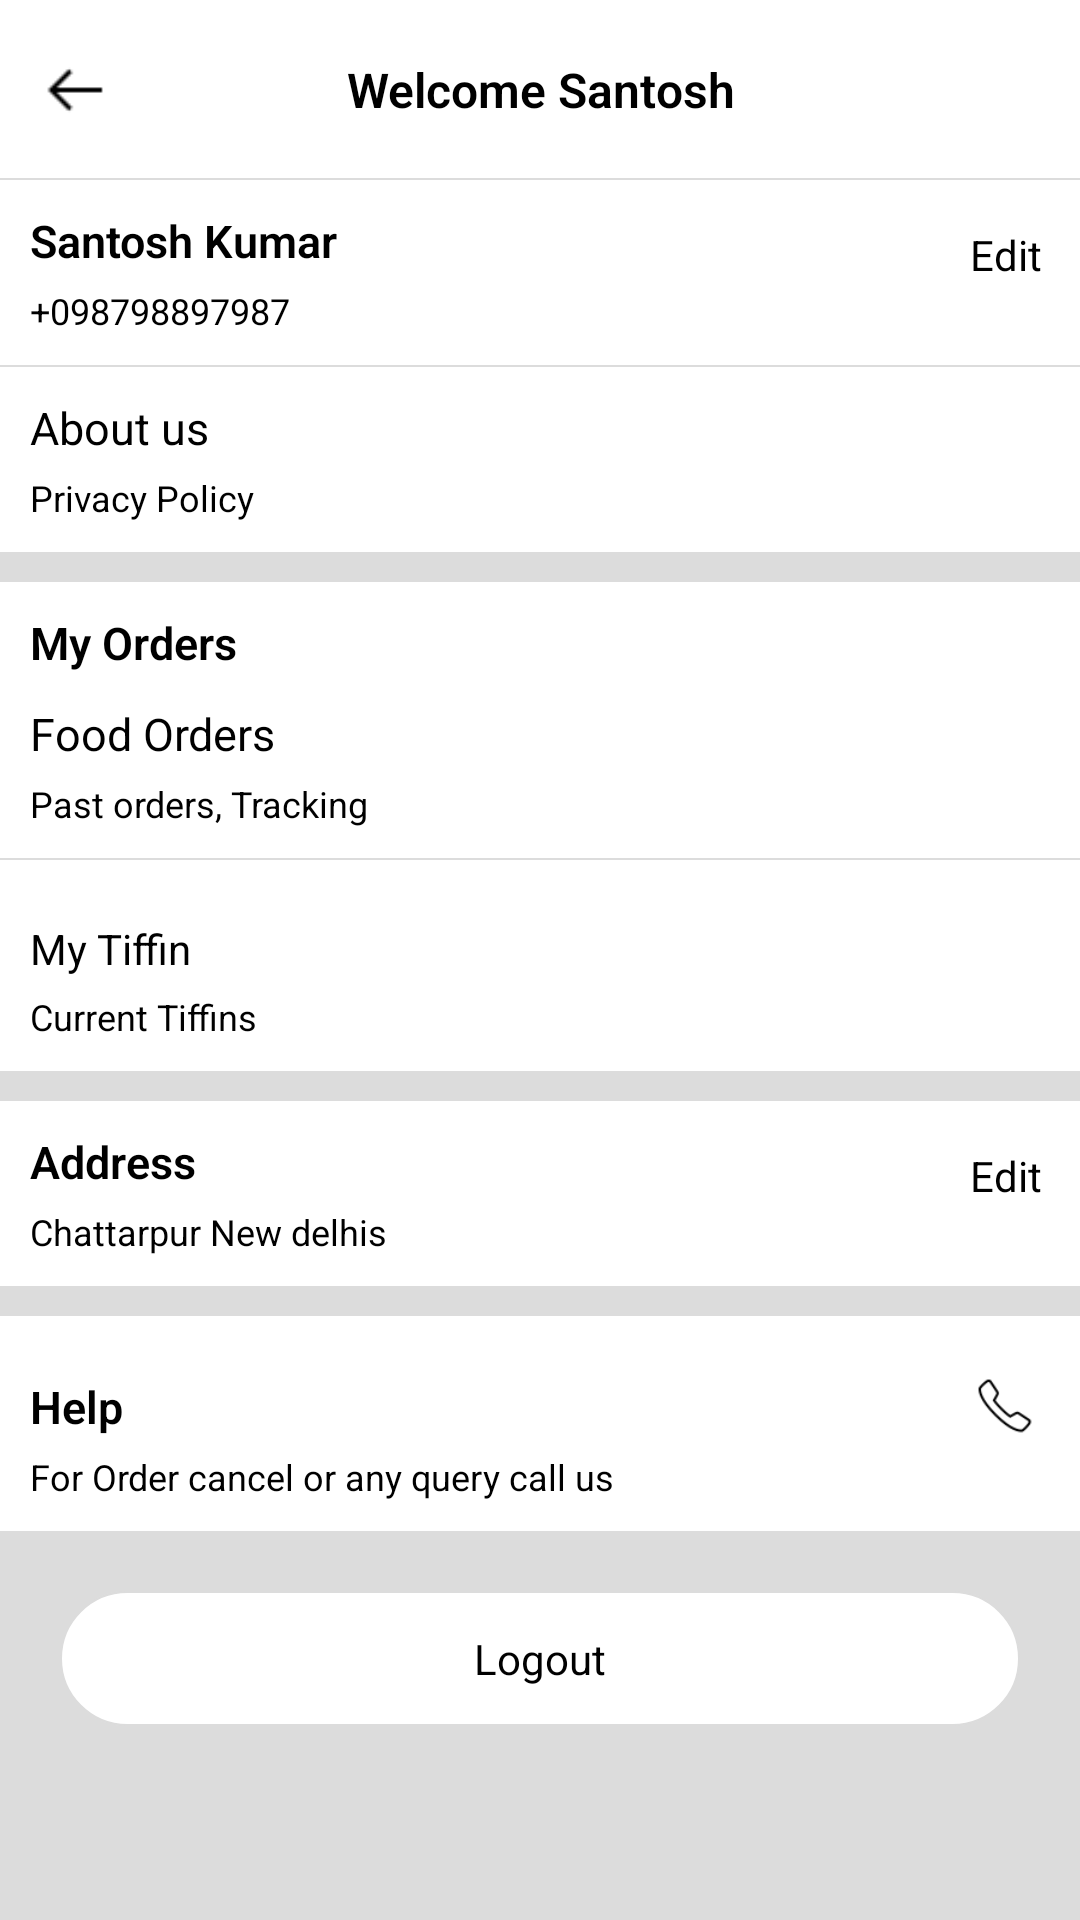

Named icons in this screenshot (1080w x 1920h) and their bounding boxes, (x1, y1, x2, y2):
left arrow: (47, 69, 103, 111)
phone call: (978, 1379, 1032, 1433)
